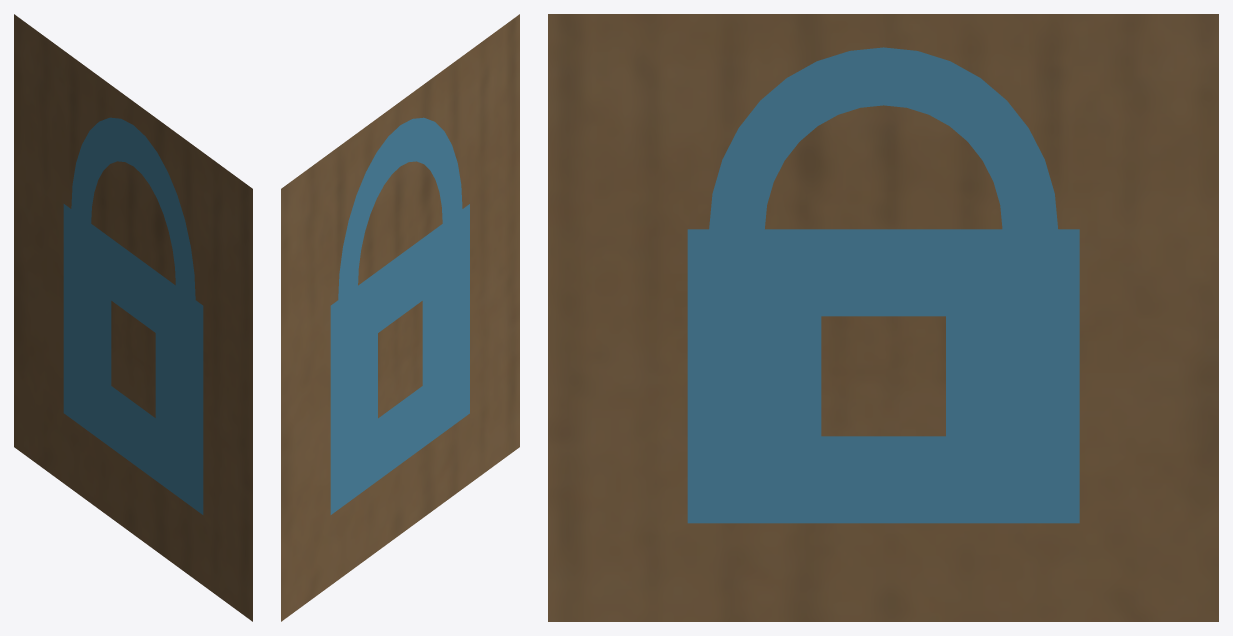
The model's file is CardboardLockDecal.fbx.
The picture shows the model from 3 angles, left to right: view 1: azimuth 30°, elevation 25°; view 2: azimuth 150°, elevation 25°; view 3: azimuth 270°, elevation 25°; orthographic projection. The views are drawn at different scales.
Visible parts, largest first — view 1: Cylinder; view 2: Cylinder; view 3: Cylinder.
Part boxes in pixels (x1,y1,x2,y2): Cylinder: [14, 14, 252, 621]; Cylinder: [281, 14, 519, 621]; Cylinder: [548, 14, 1218, 621].
Size of the model in its own units: 6.93e-05 by 0.3857 by 0.3857.
Materials: 1 (1 with a texture image).
